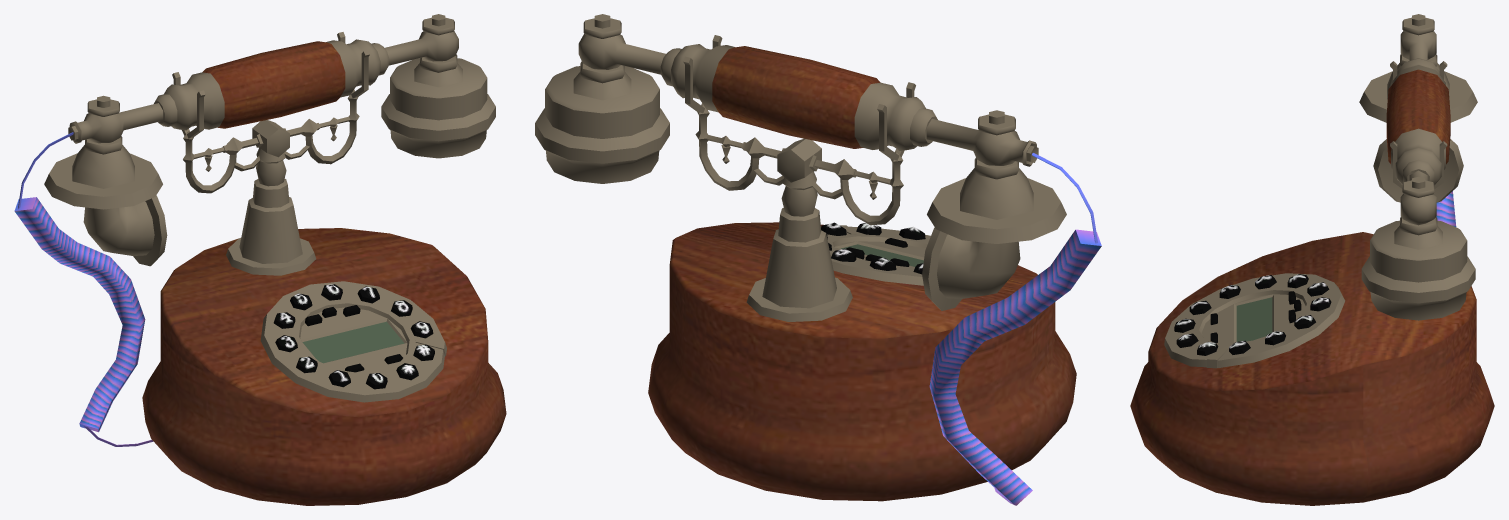
The model's file is CSMDH01.FBX.
3 renders of one model, left to right at view 1: azimuth 30°, elevation 25°; view 2: azimuth 150°, elevation 25°; view 3: azimuth 270°, elevation 25°, orthographic. The views are drawn at different scales.
Parts seen in each view (by area): view 1: CSMDH01; view 2: CSMDH01; view 3: CSMDH01.
Boxes of the visible parts, bbox=[...] form: CSMDH01: bbox=[14, 14, 506, 505]; CSMDH01: bbox=[535, 14, 1101, 505]; CSMDH01: bbox=[1130, 14, 1494, 505].
Bounding box in the file's own units: 681 × 472 × 456.
